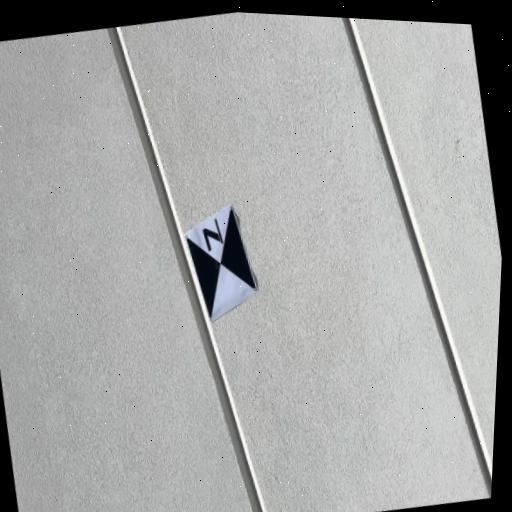target7: (184, 203, 257, 322)
